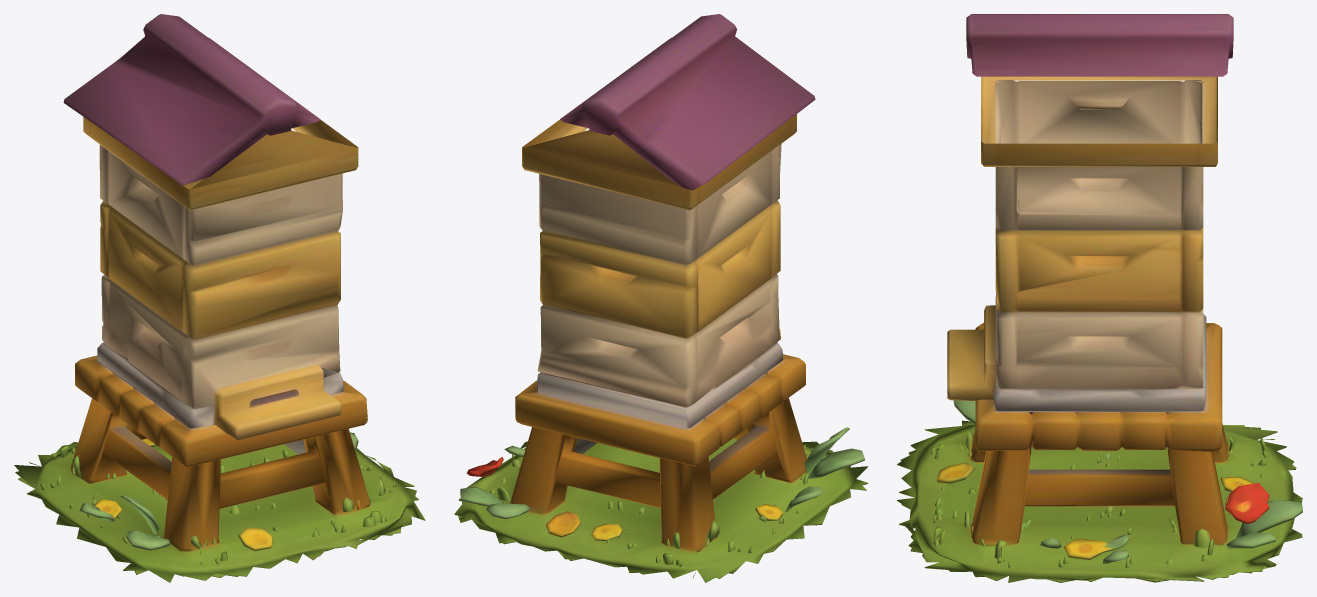
File: beehive_box.glb
3 renders of one model, left to right at view 1: azimuth 30°, elevation 25°; view 2: azimuth 150°, elevation 25°; view 3: azimuth 270°, elevation 25°, orthographic. The views are drawn at different scales.
Parts seen in each view (by area): view 1: SkyRally_prop_forest_beehive_box; view 2: SkyRally_prop_forest_beehive_box; view 3: SkyRally_prop_forest_beehive_box.
Part boxes in pixels (x1,y1,x2,y2): SkyRally_prop_forest_beehive_box: (14,14,425,582); SkyRally_prop_forest_beehive_box: (454,14,868,582); SkyRally_prop_forest_beehive_box: (897,14,1302,582).
Size of the model in its own units: 4.77 by 6.5 by 4.92.
Materials: 1 (1 with a texture image).
